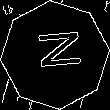N_W: (28, 33, 82, 77)
